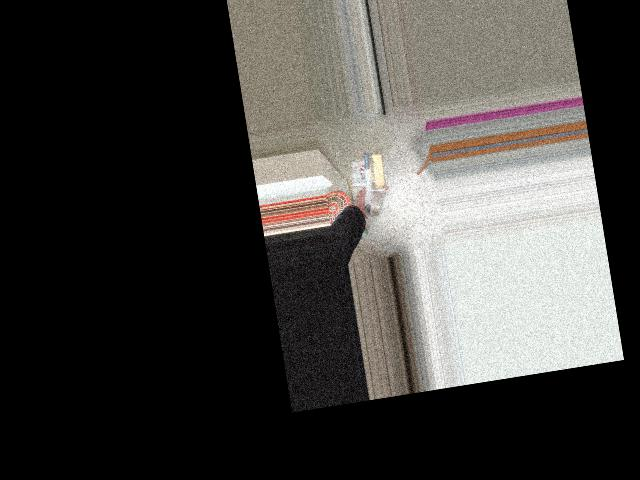cheese: (323, 147, 406, 210)
